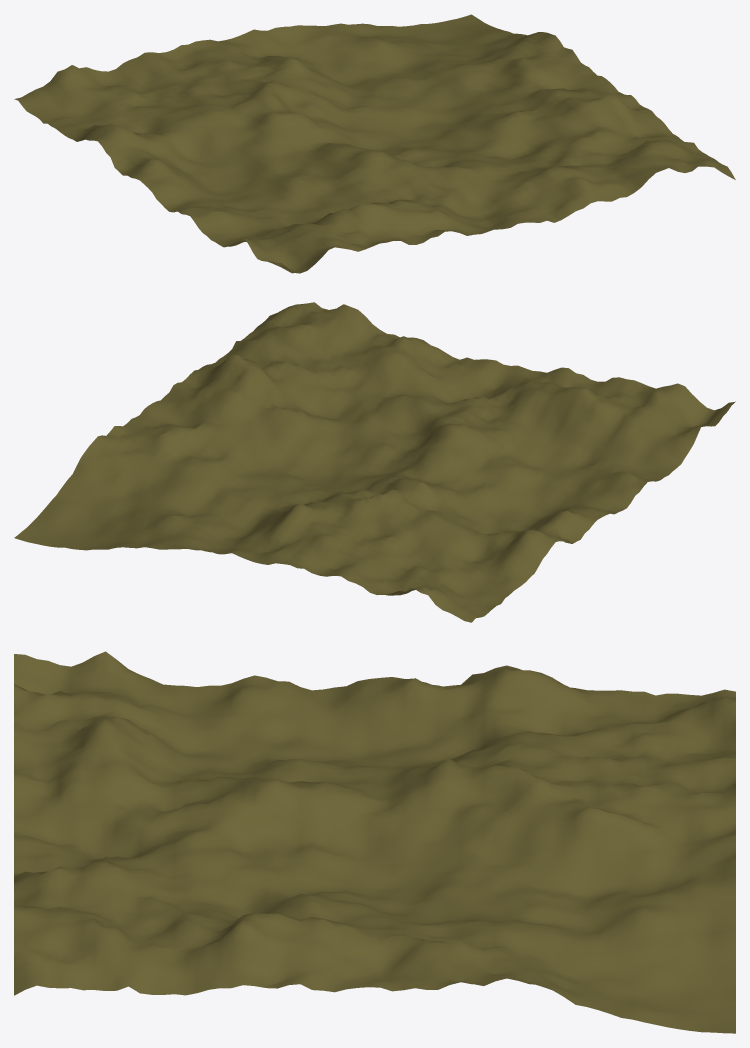
File: Ocean floor.fbx
3 renders of one model, top to bottom at view 1: azimuth 30°, elevation 25°; view 2: azimuth 150°, elevation 25°; view 3: azimuth 270°, elevation 25°, orthographic. The views are drawn at different scales.
Parts seen in each view (by area): view 1: Landscape.002; view 2: Landscape.002; view 3: Landscape.002.
Boxes of the visible parts, <box> form: Landscape.002: <box>14,14,735,273</box>; Landscape.002: <box>14,302,735,622</box>; Landscape.002: <box>14,651,735,1033</box>.
Size of the model in its own units: 200 by 26.78 by 200.
